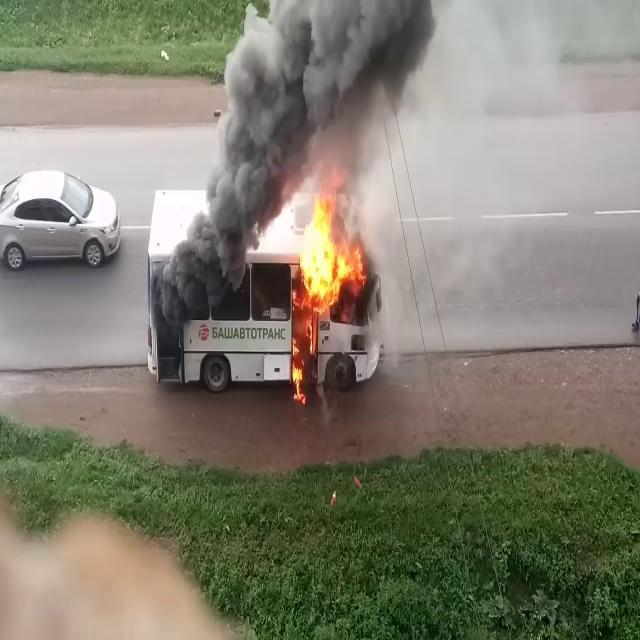Fire: (290, 190, 366, 310), (290, 346, 306, 402)
Smoke: (173, 0, 444, 222)
